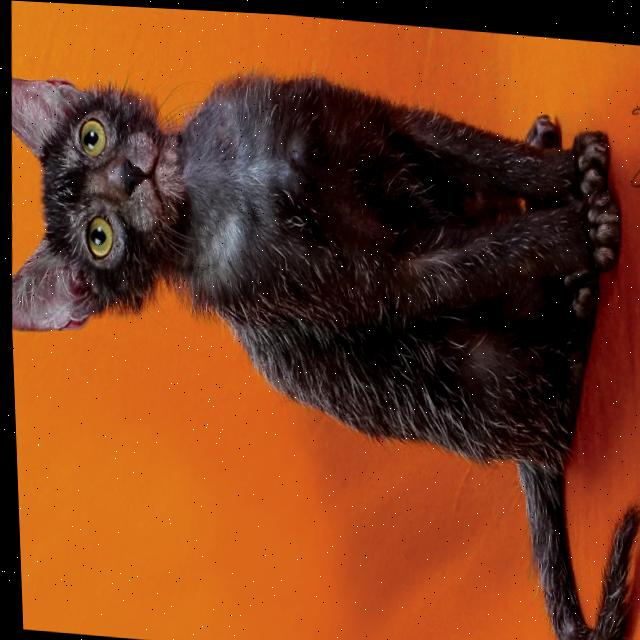Lykoi: (1, 45, 640, 640)
